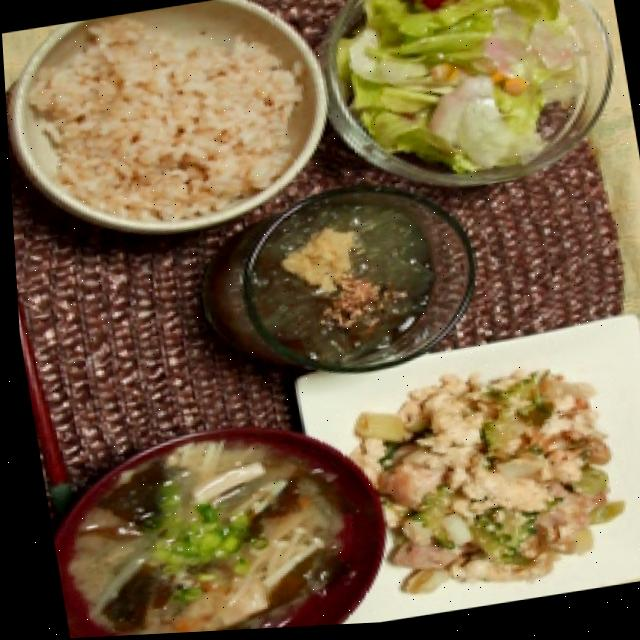汤锅炖物: (31, 401, 395, 640)
熟制海鲜: (275, 309, 640, 629)
米饭主食: (0, 0, 354, 261)
蔬菜料理: (295, 0, 634, 215)
